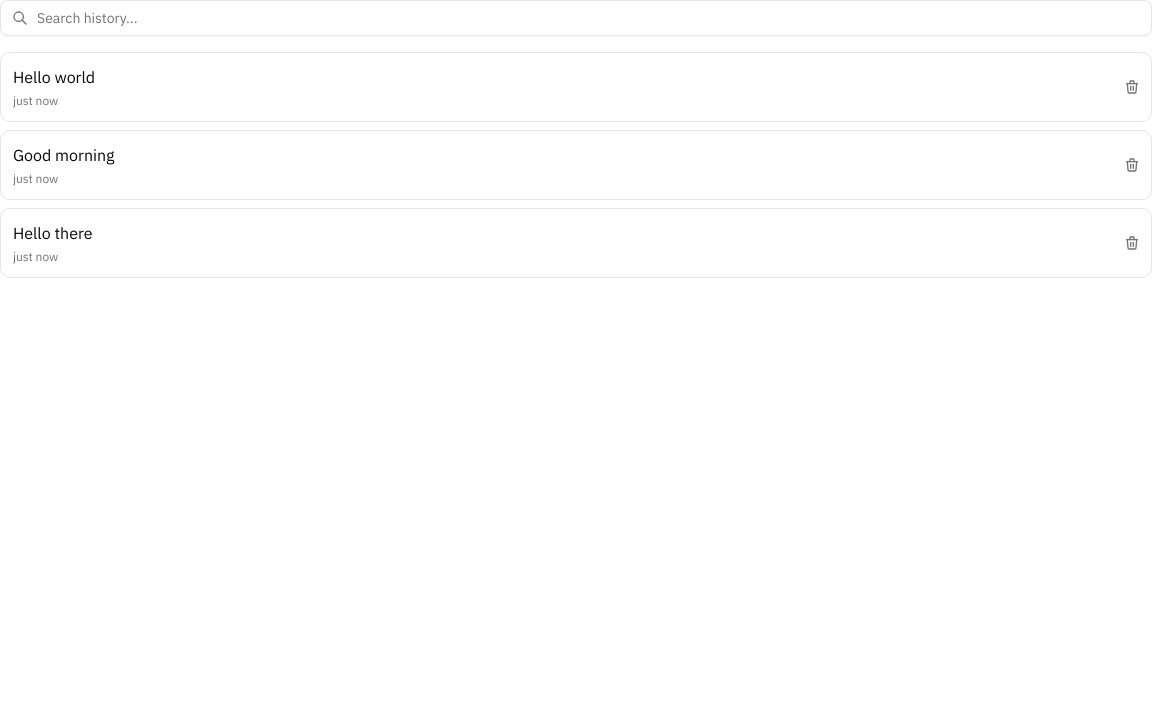
Test: HistoryView › filters entries by search query
This screenshot has width=1152, height=720.
Type "Hello" into the field with placeholder "Search history..." at [576, 18], box [0,0,1151,36]
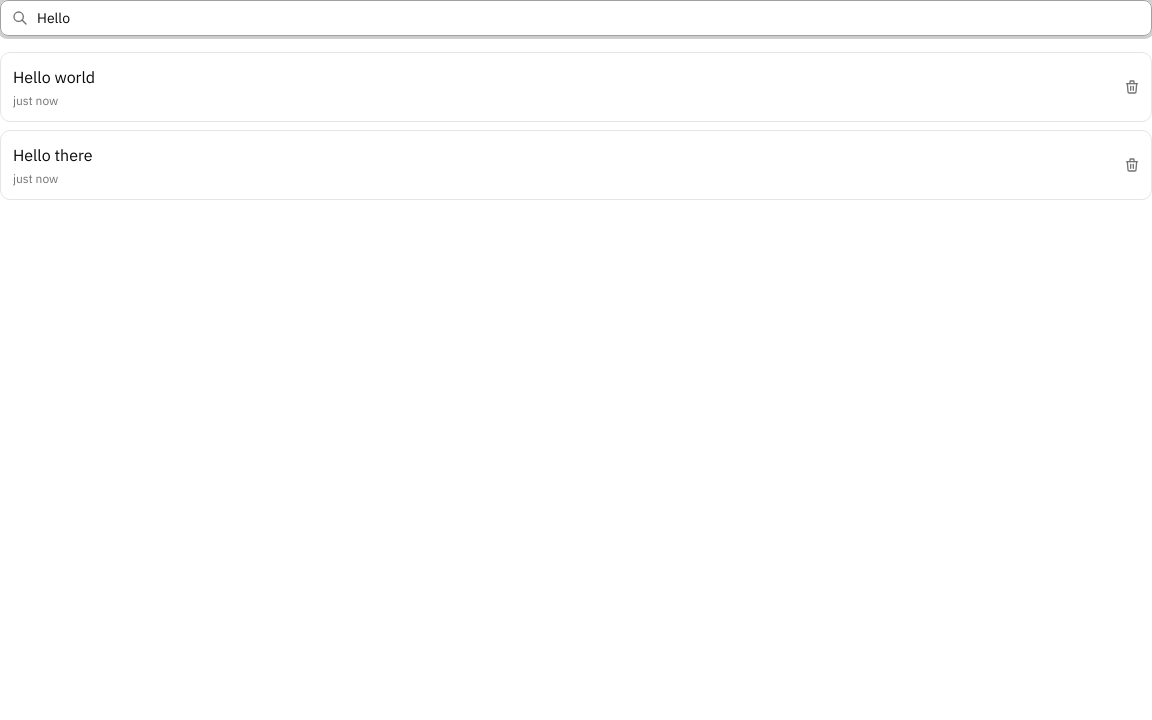
Check: the text "Hello world" is shown, box [13,65,95,89]
Check: the button "Good morning" is gone
